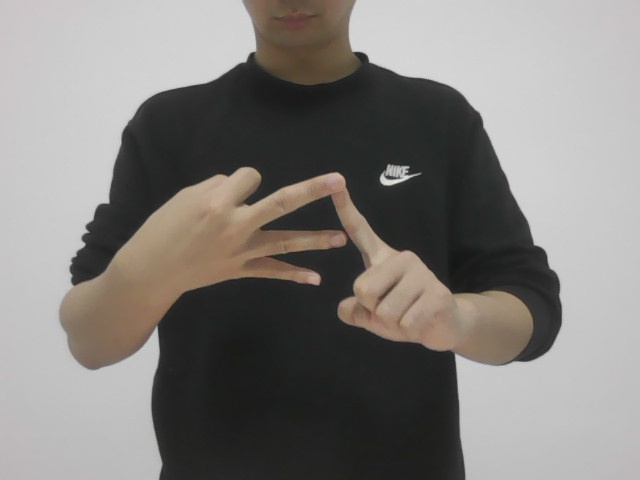name: (149, 161, 458, 355)
